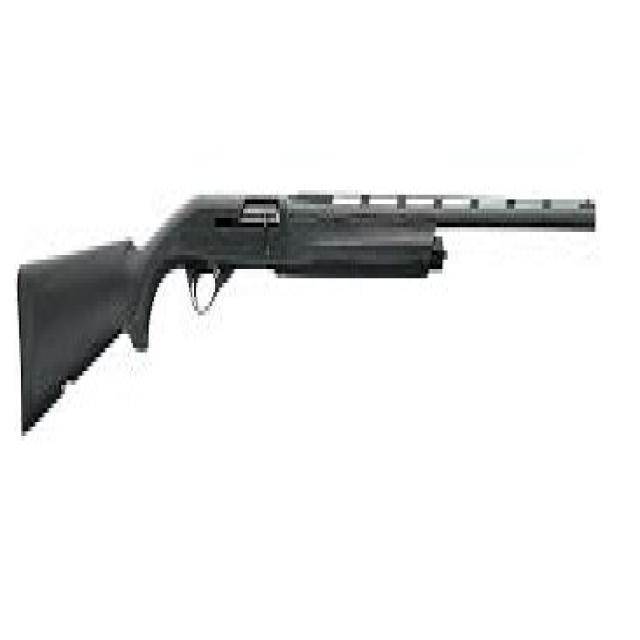rifle: (14, 166, 601, 457)
